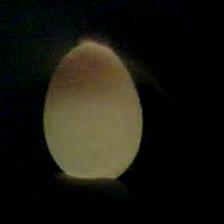infertile: (42, 41, 143, 185)
